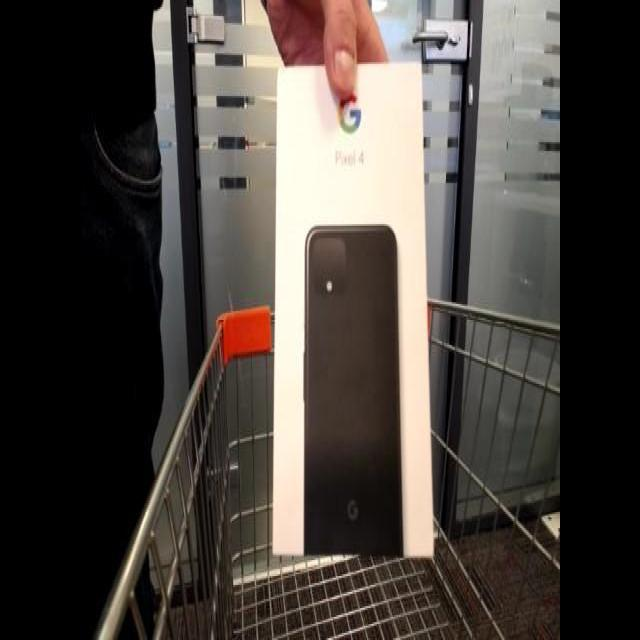Pixel 4: (261, 46, 441, 564)
